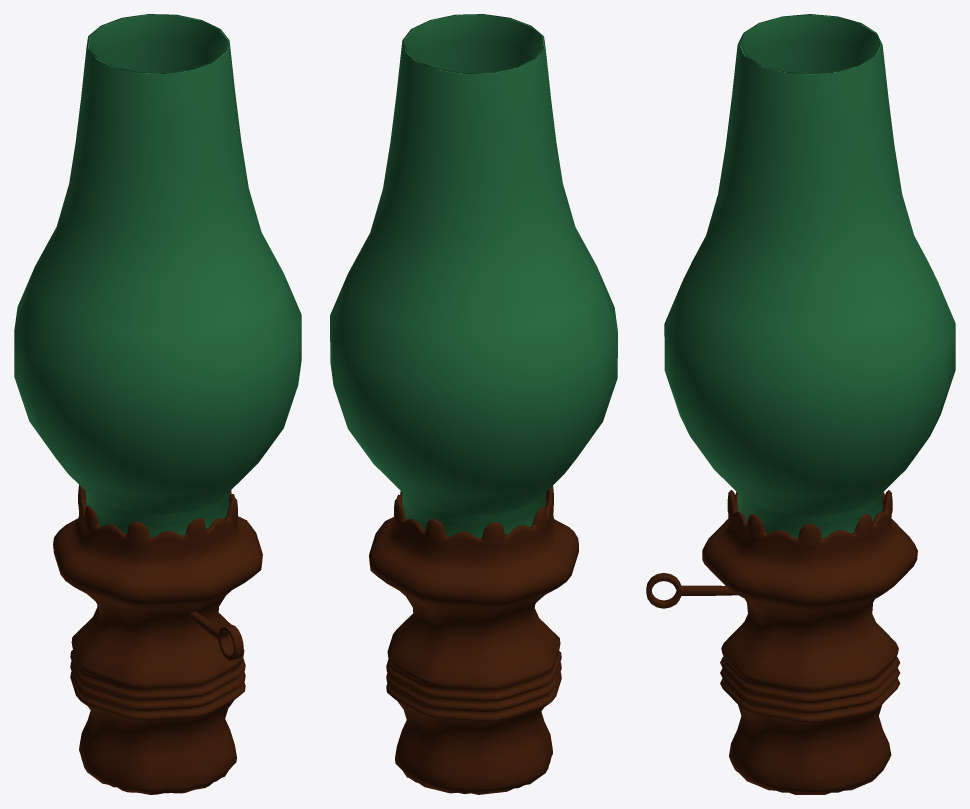
3 renders of one model, left to right at view 1: azimuth 30°, elevation 25°; view 2: azimuth 150°, elevation 25°; view 3: azimuth 270°, elevation 25°, orthographic.
Visible parts, largest first — view 1: glassbit, base, key; view 2: glassbit, base; view 3: glassbit, base, key.
Boxes of the visible parts, <box> form: glassbit: <box>14,14,301,537</box>; base: <box>53,485,262,794</box>; key: <box>189,611,243,660</box>; glassbit: <box>330,14,617,538</box>; base: <box>369,486,578,794</box>; glassbit: <box>664,14,955,538</box>; base: <box>702,490,917,794</box>; key: <box>646,573,738,608</box>.
Bounding box in the file's own units: 0.7313 × 2 × 0.7772.
